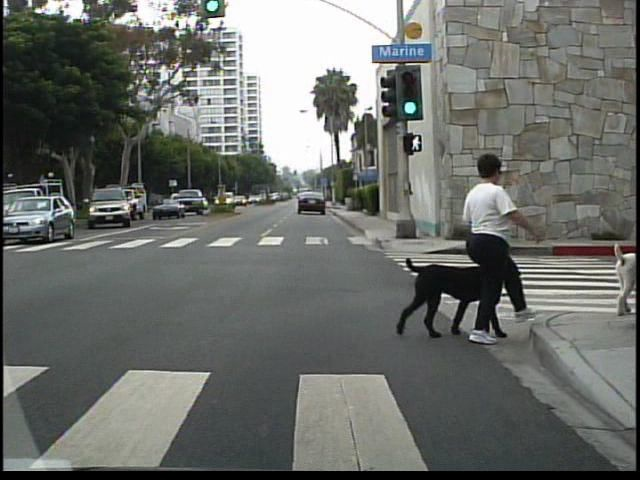person: (452, 147, 524, 346)
